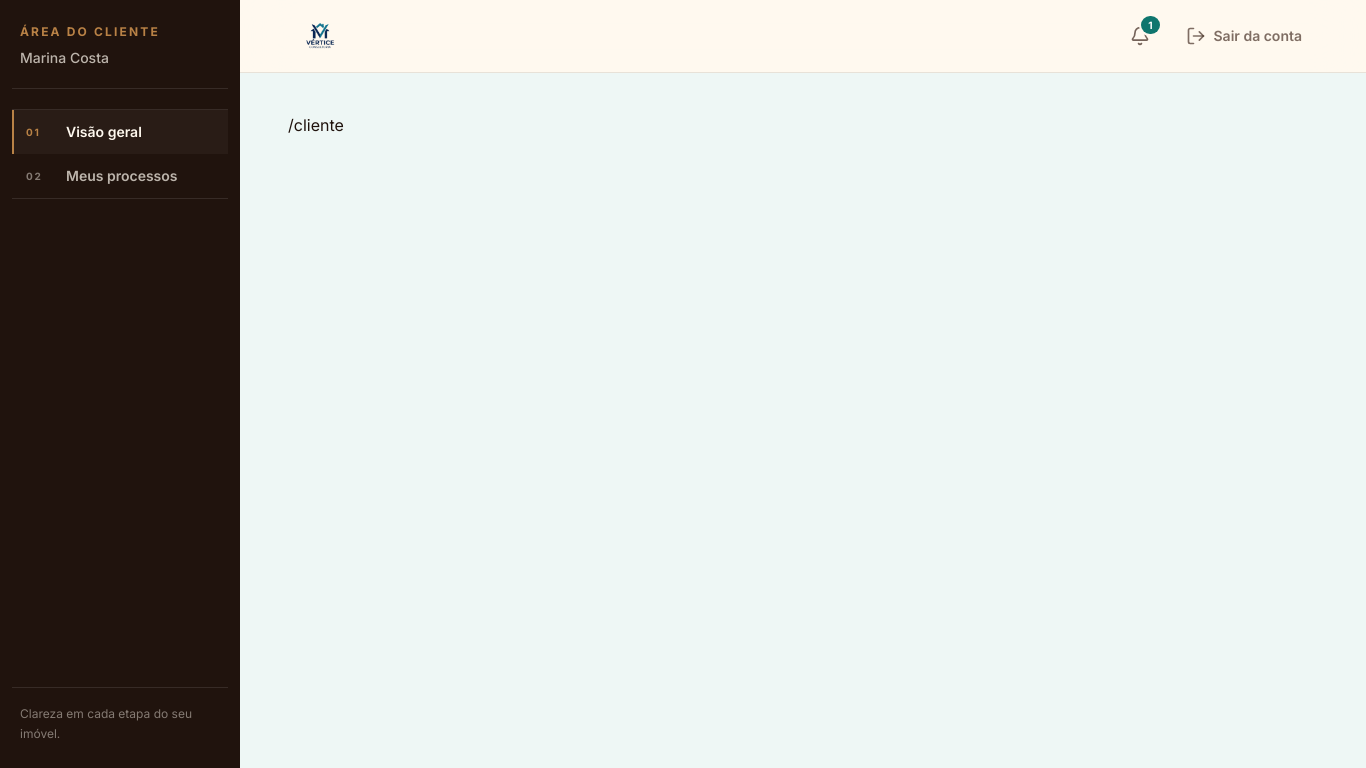
Scenario: PortalShell › uses client-side routing for the index, brand and notification destinations
Click the link "02 Meus processos". click: (102, 176)
box: [26,167,178,184]
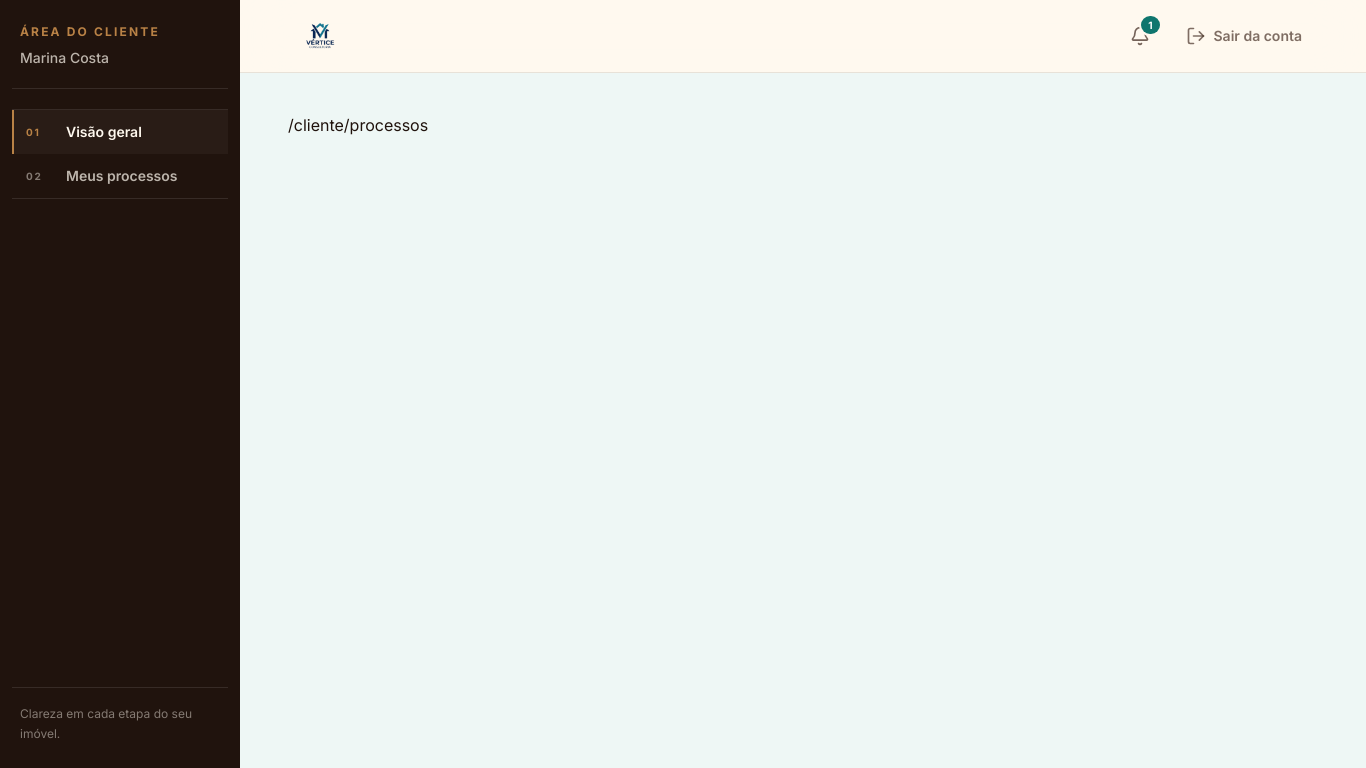
Check: the text named "Rota atual" reads "/cliente/processos", box [288,115,428,135]
Click the link named "Vértice Consultoria". click: (321, 36)
box: [288,12,353,60]
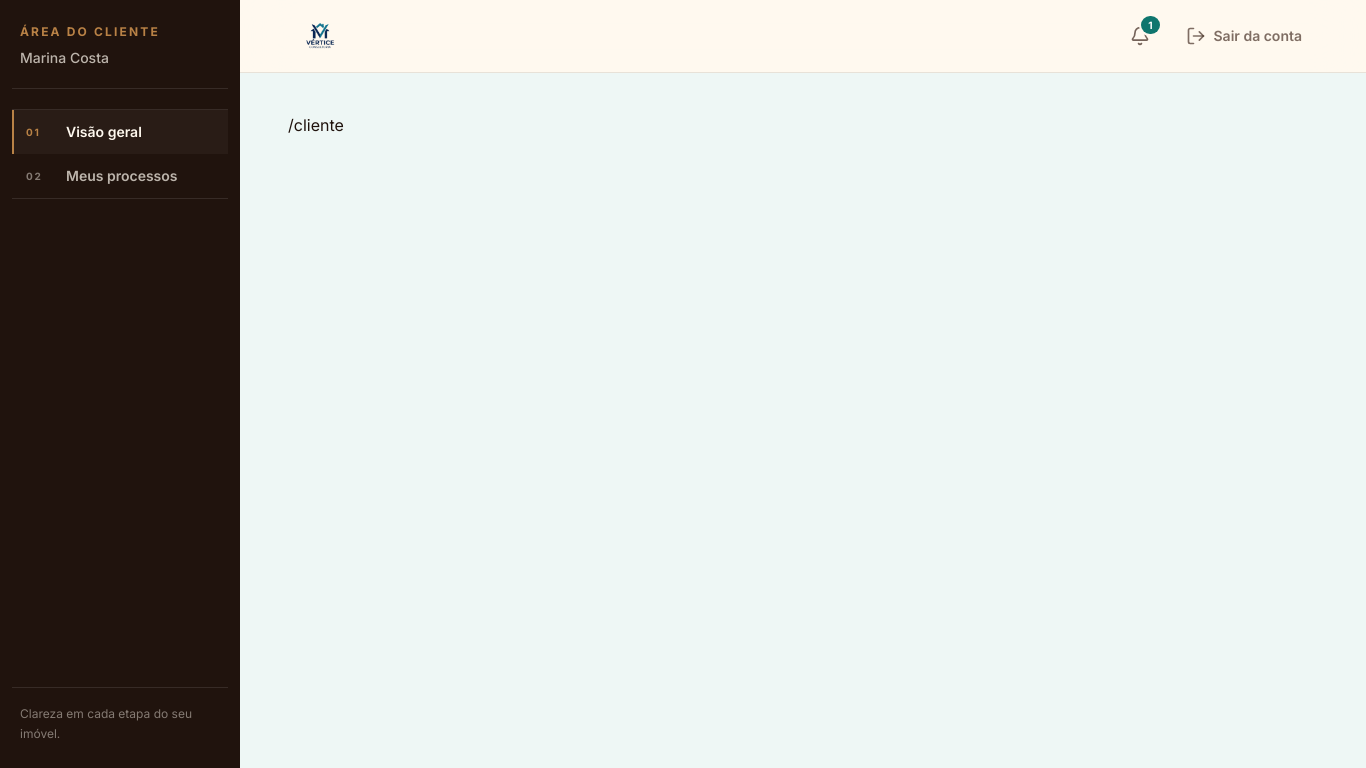
Check: the text named "Rota atual" reads "/cliente", box [288,115,344,135]
Click the button named "Notificações, 1 não lida". click: (1140, 36)
box: [1118,14,1162,58]
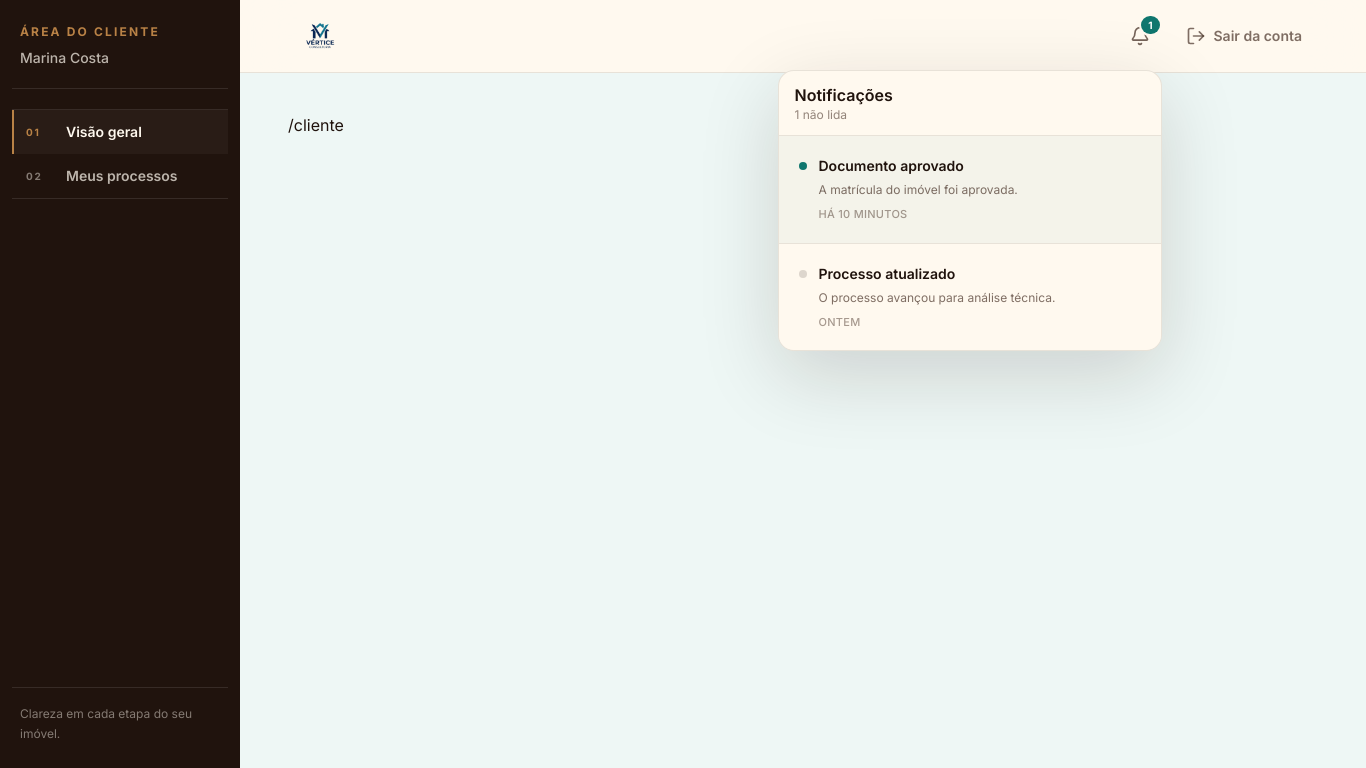
Click the link "Documento aprovado". click: (908, 189)
box: [798,157,1018,221]
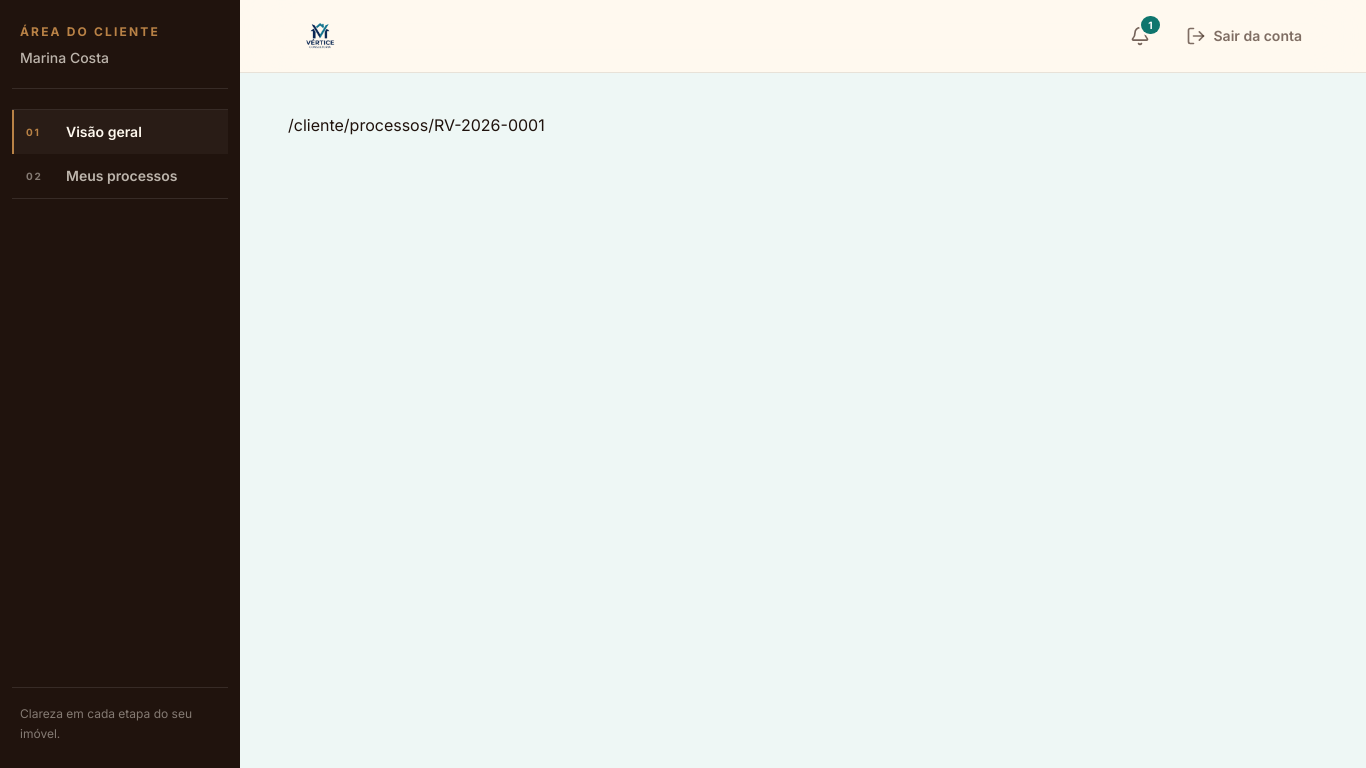
Check: the text named "Rota atual" reads "/cliente/processos/RV-2026-0001", box [288,115,545,135]
